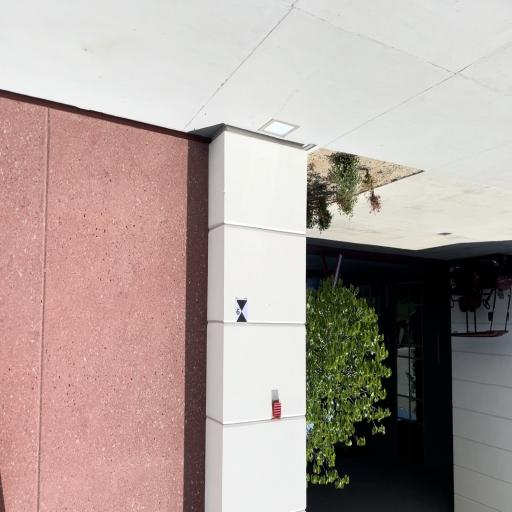target9: (236, 299, 247, 322)
